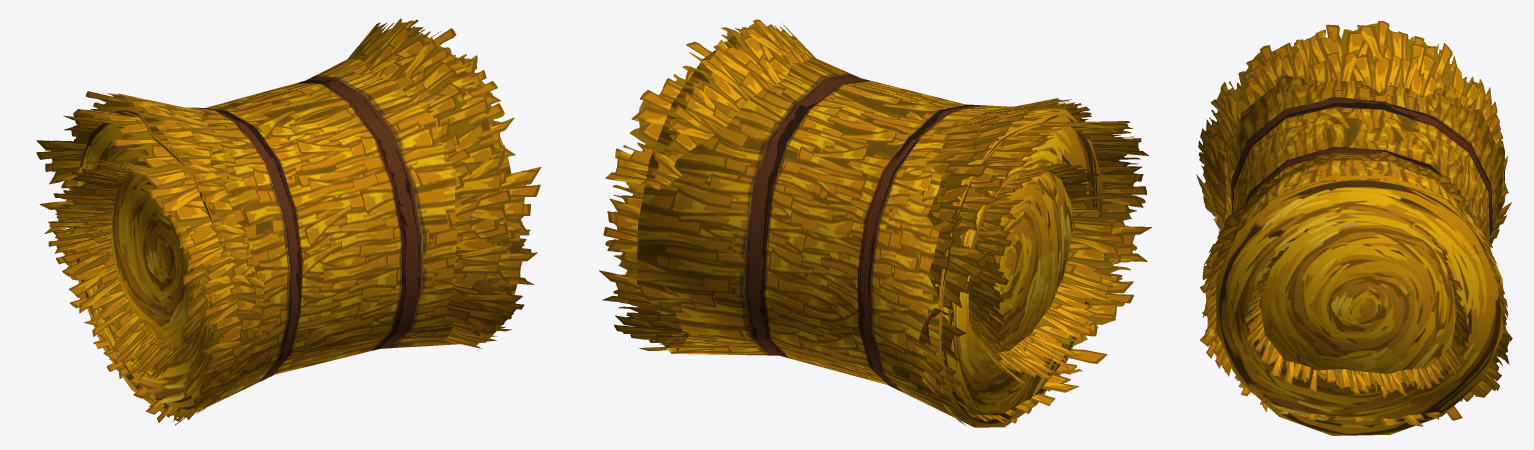
Rendered from SM_PROP_hay_01.FBX.
3 views of the same model, side by side, from view 1: azimuth 30°, elevation 25°; view 2: azimuth 150°, elevation 25°; view 3: azimuth 270°, elevation 25° (orthographic). The views are drawn at different scales.
Parts seen in each view (by area): view 1: SM_PROP_hay_01; view 2: SM_PROP_hay_01; view 3: SM_PROP_hay_01.
Part boxes in pixels (box(x1,y1,x2,y2)): SM_PROP_hay_01: box(36, 18, 541, 425); SM_PROP_hay_01: box(599, 19, 1151, 427); SM_PROP_hay_01: box(1196, 21, 1512, 435).
Size of the model in its own units: 163 by 129 by 123.
